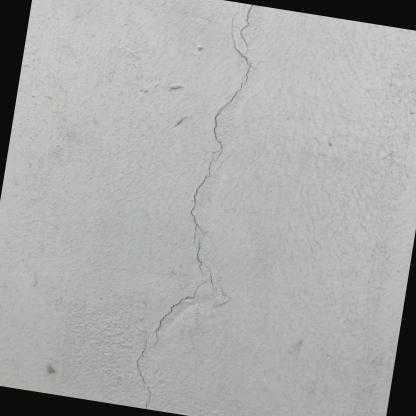crack: (129, 3, 263, 406)
